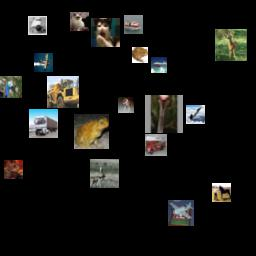airplane: (168, 200, 194, 226), (28, 16, 47, 35), (186, 105, 205, 124), (34, 53, 53, 72), (151, 57, 167, 73)
bird: (145, 95, 183, 133), (0, 76, 22, 98)
cat: (91, 18, 120, 47), (70, 12, 89, 31), (4, 160, 23, 179)
deer: (215, 29, 247, 61), (90, 159, 119, 188)
dog: (118, 97, 134, 113)
frog: (74, 114, 109, 149), (132, 47, 148, 63)
ship: (124, 15, 143, 34)
truck: (47, 76, 79, 108), (29, 109, 58, 138), (145, 134, 167, 156)
